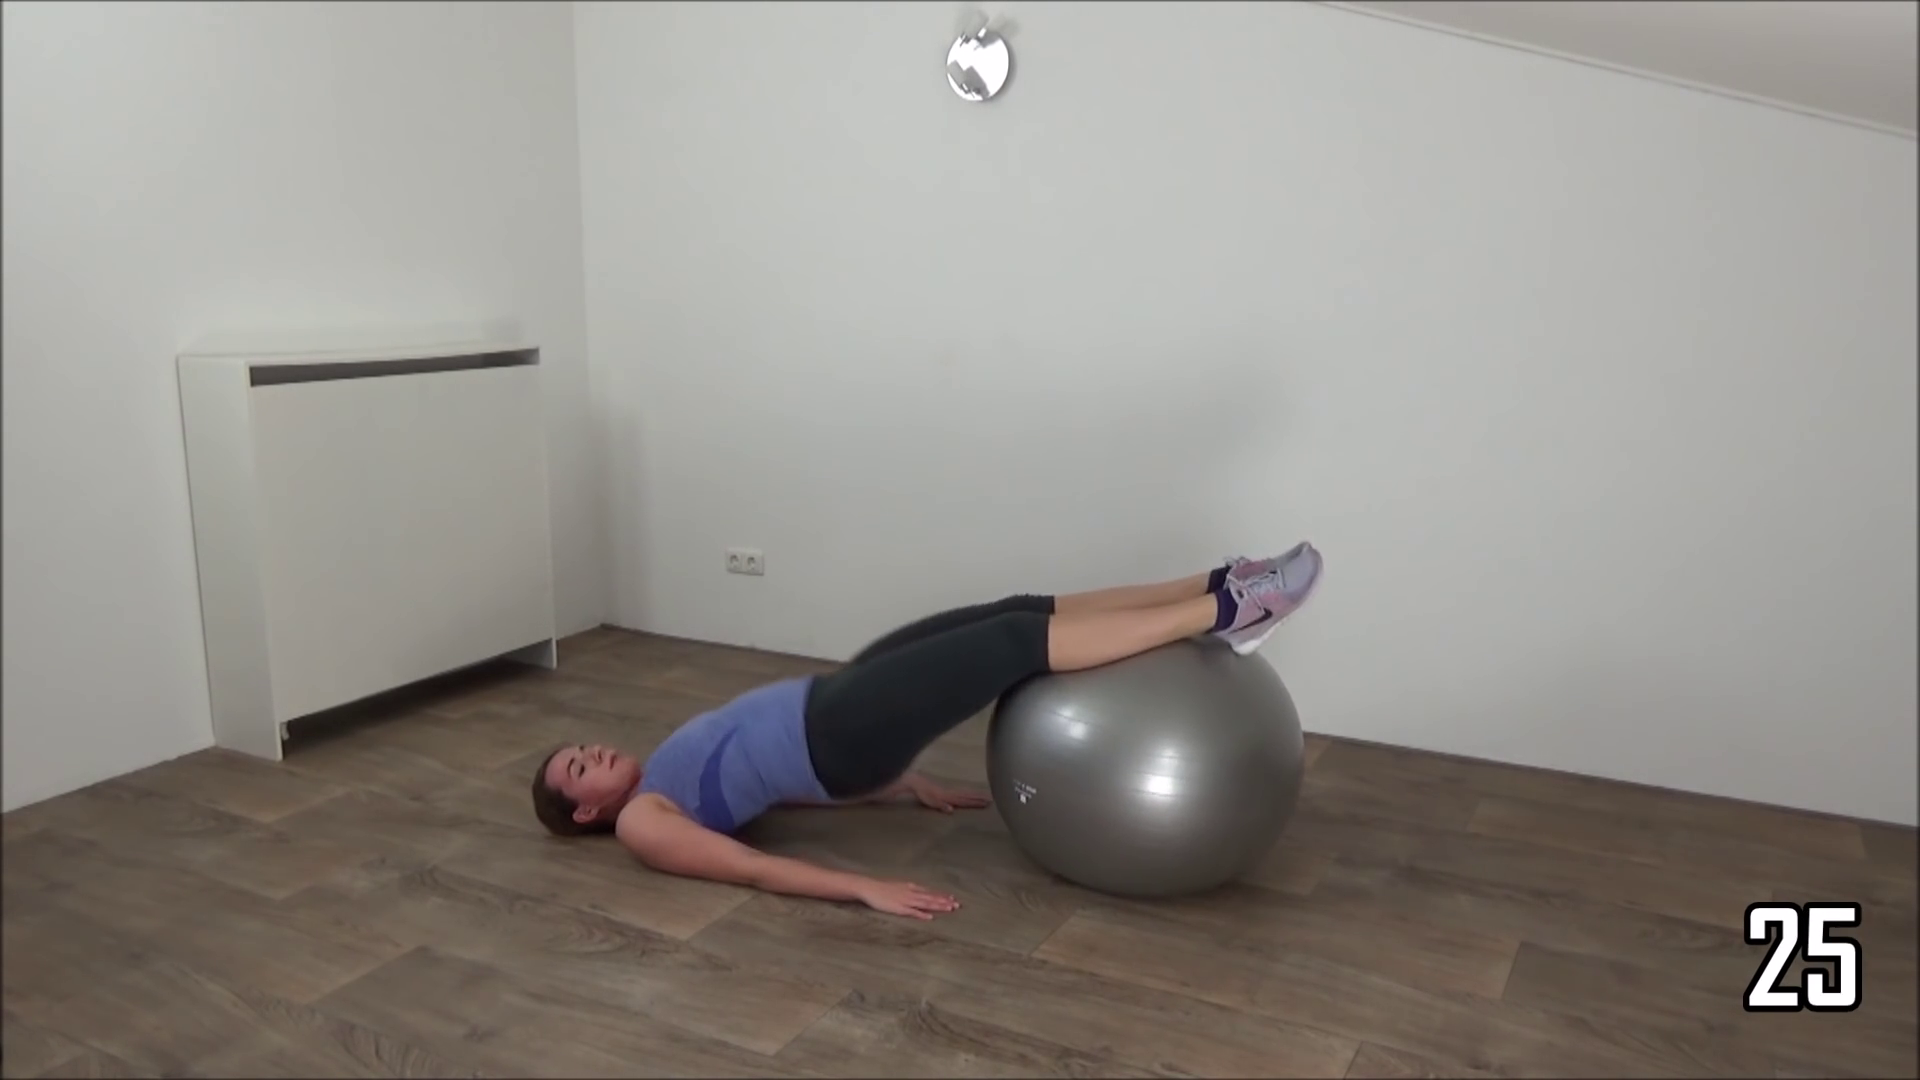yogaball: (976, 600, 1327, 914)
